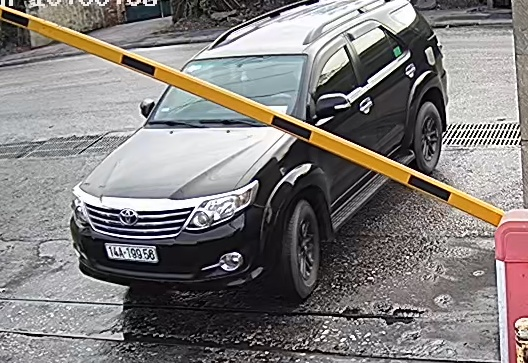vehicle plate: (104, 236, 161, 264)
